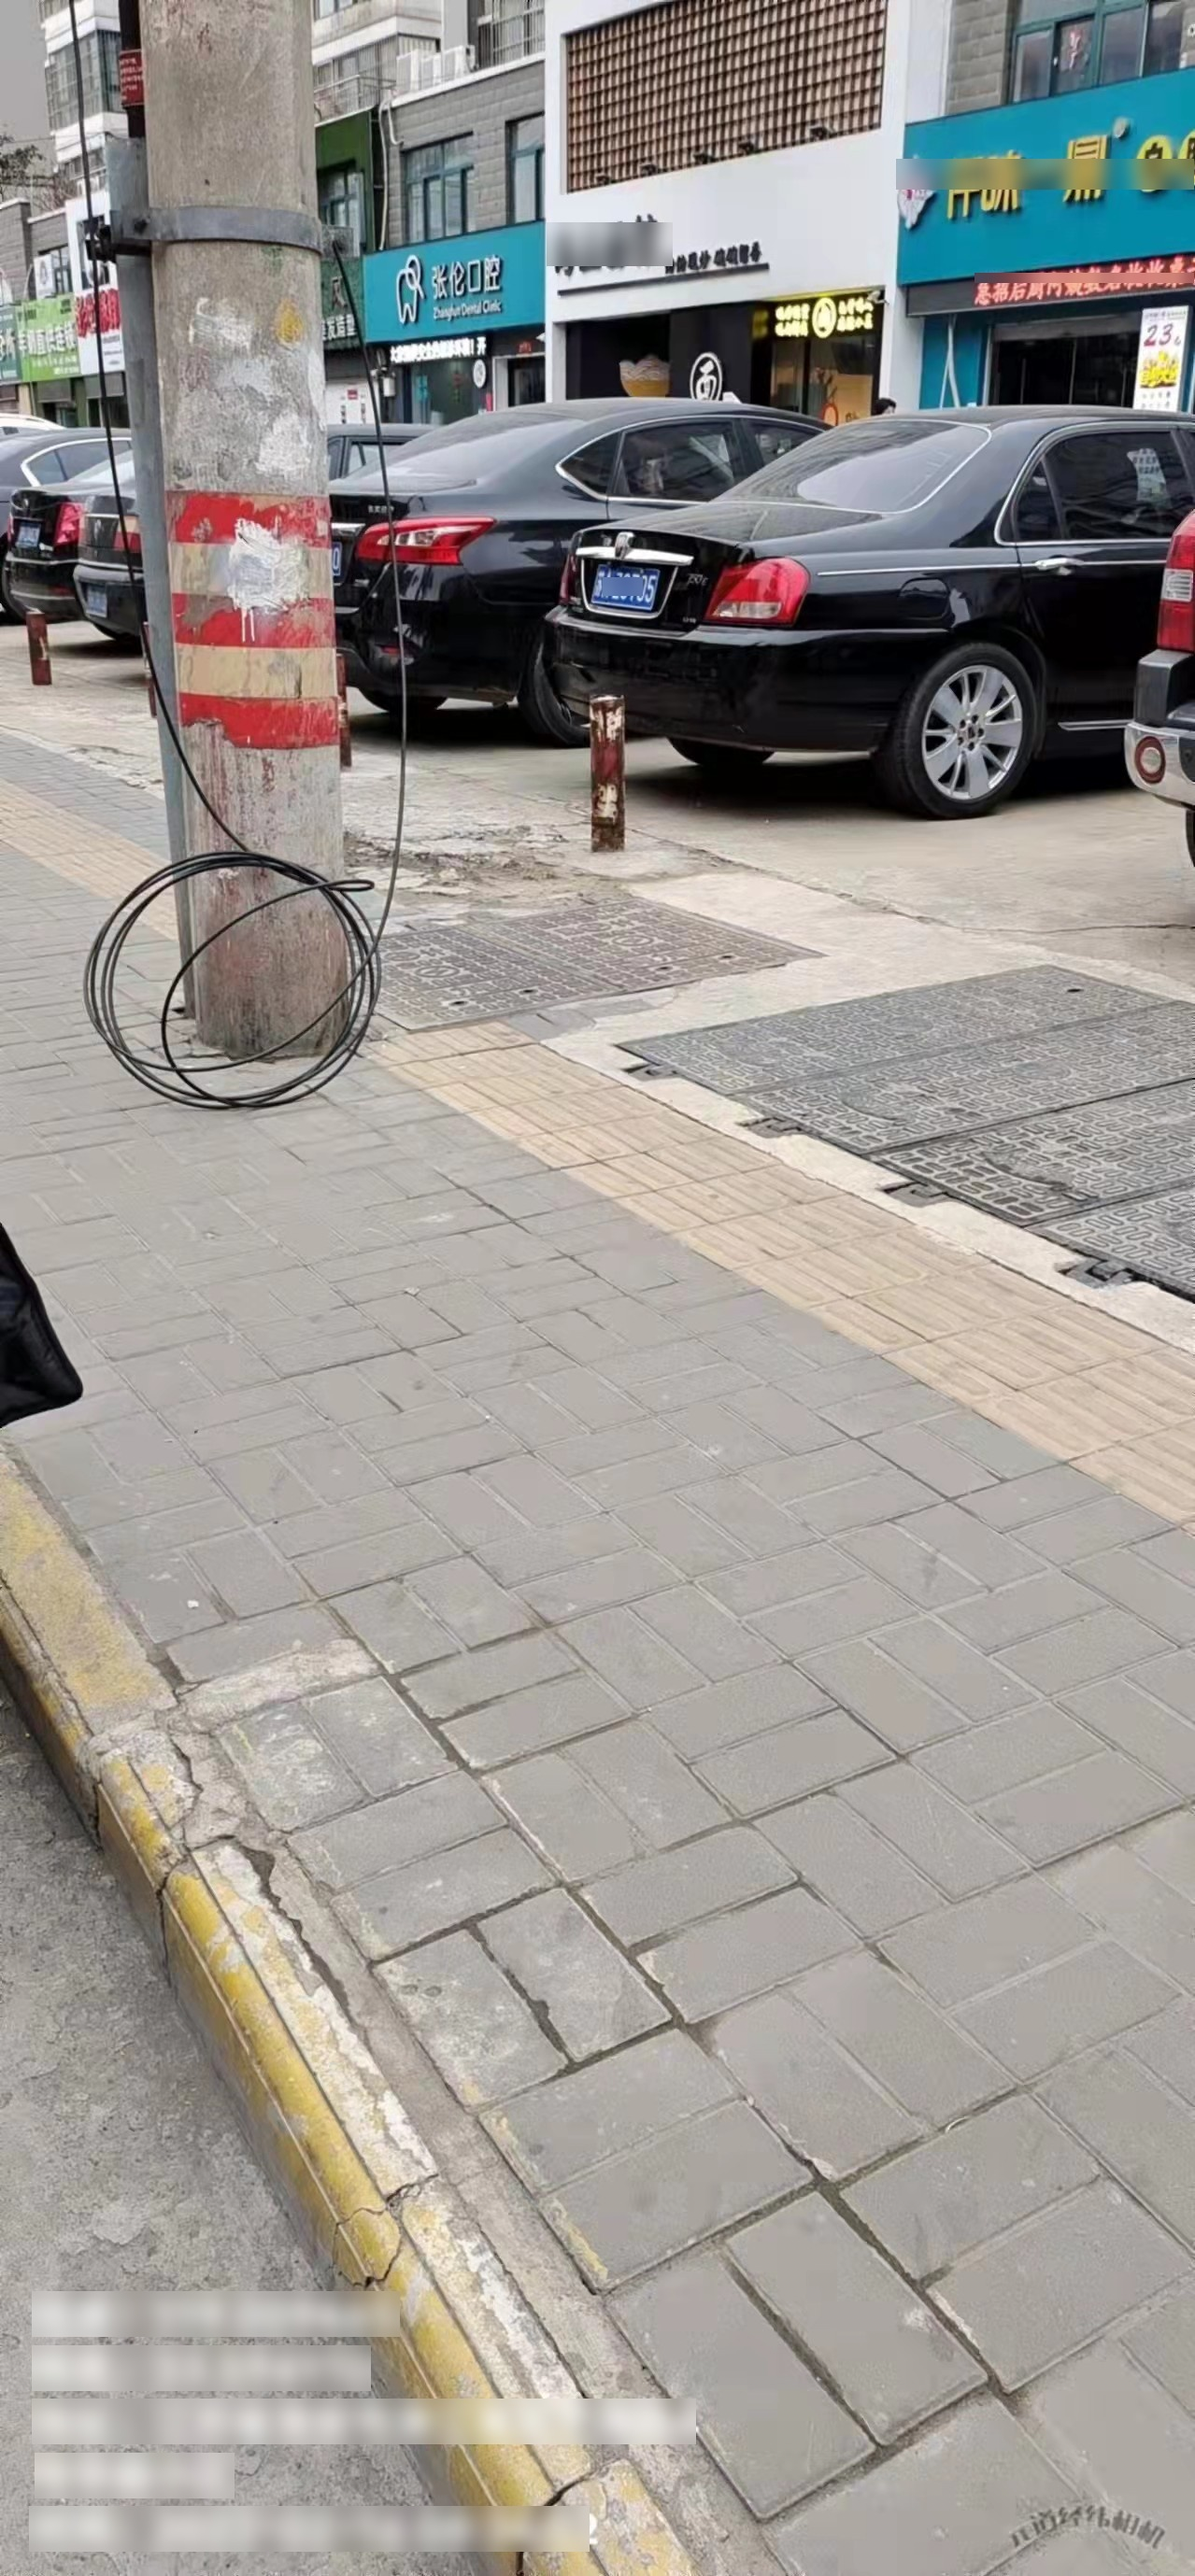good: (608, 954, 1195, 1331), (358, 889, 815, 1042)
